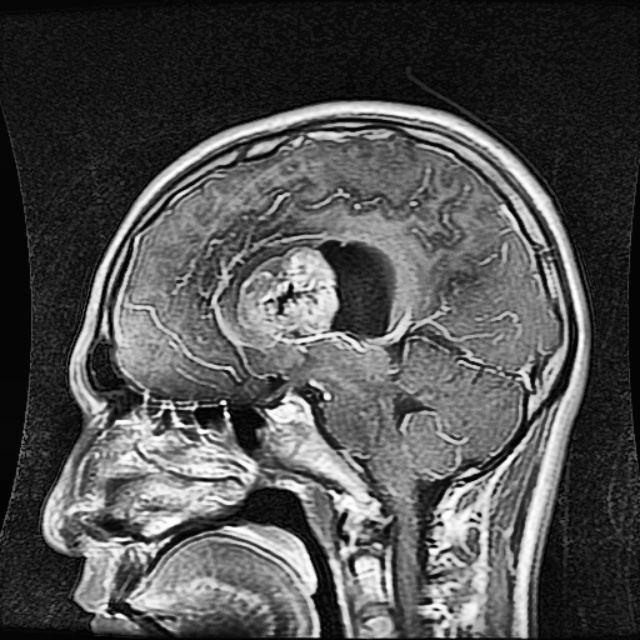Meningioma: (239, 238, 394, 338)
